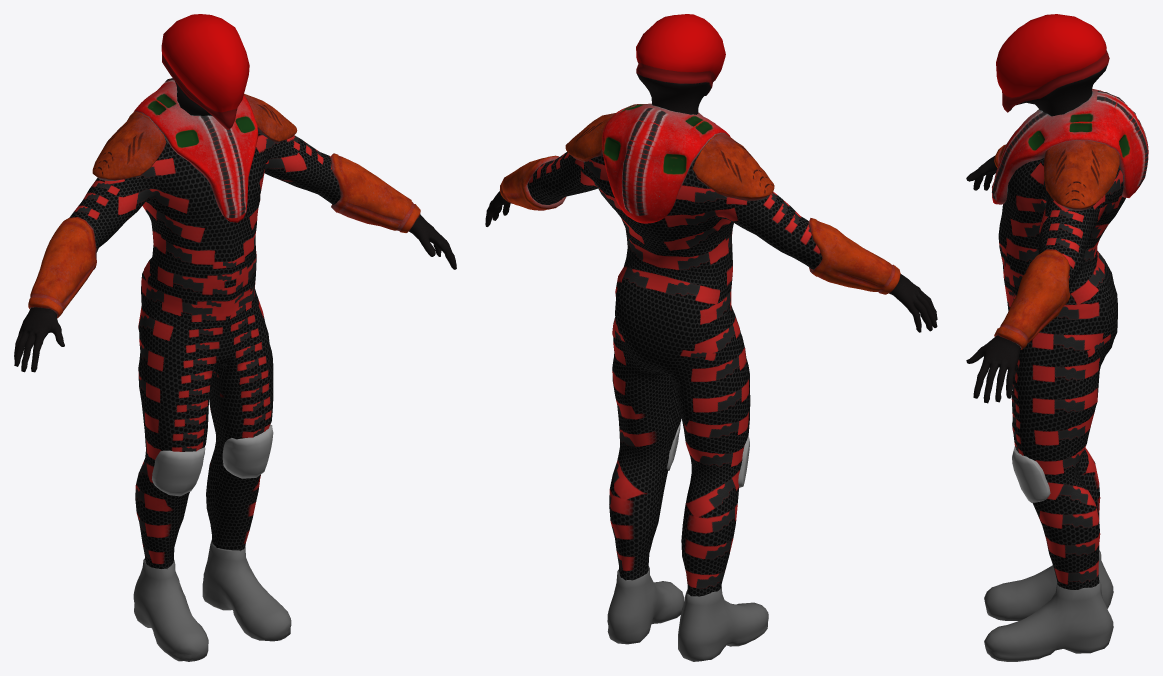
The model's file is Alien.fbx.
3 views of the same model, side by side, from view 1: azimuth 30°, elevation 25°; view 2: azimuth 150°, elevation 25°; view 3: azimuth 270°, elevation 25° (orthographic). The views are drawn at different scales.
Visible parts, largest first — view 1: Alien_LP, Boots_LP, Gaunlet_LP, Chest_Armor_LP, Shoulder_Pad_LP, Knee_Pad_LP; view 2: Alien_LP, Chest_Armor_LP, Boots_LP, Gaunlet_LP, Shoulder_Pad_LP; view 3: Alien_LP, Boots_LP, Chest_Armor_LP, Gaunlet_LP, Shoulder_Pad_LP, Knee_Pad_LP.
Boxes of the visible parts, x1,y1,x2,y2 form: Alien_LP: [14, 14, 456, 568]; Boots_LP: [133, 540, 291, 661]; Gaunlet_LP: [28, 153, 420, 317]; Chest_Armor_LP: [134, 78, 258, 222]; Shoulder_Pad_LP: [92, 94, 297, 180]; Knee_Pad_LP: [152, 425, 273, 496]; Alien_LP: [485, 14, 937, 596]; Chest_Armor_LP: [602, 103, 730, 223]; Boots_LP: [607, 566, 768, 661]; Gaunlet_LP: [500, 155, 900, 294]; Shoulder_Pad_LP: [565, 112, 774, 200]; Alien_LP: [966, 14, 1125, 589]; Boots_LP: [984, 550, 1113, 661]; Chest_Armor_LP: [992, 88, 1148, 204]; Gaunlet_LP: [994, 144, 1070, 349]; Shoulder_Pad_LP: [1044, 140, 1119, 210]; Knee_Pad_LP: [1012, 422, 1050, 502].
Size of the model in its own units: 305 by 407 by 109.
